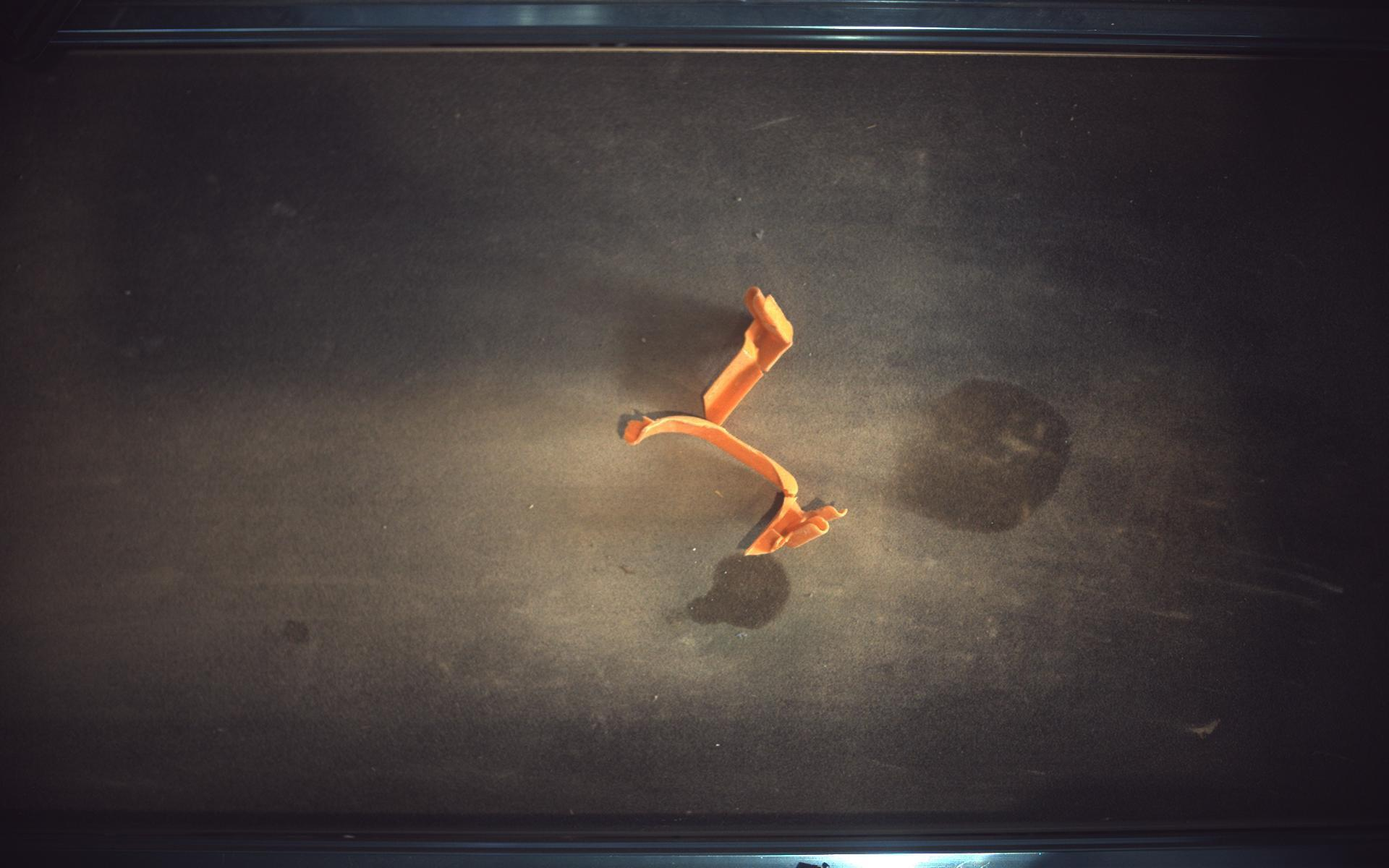general_w: (624, 286, 849, 556)
